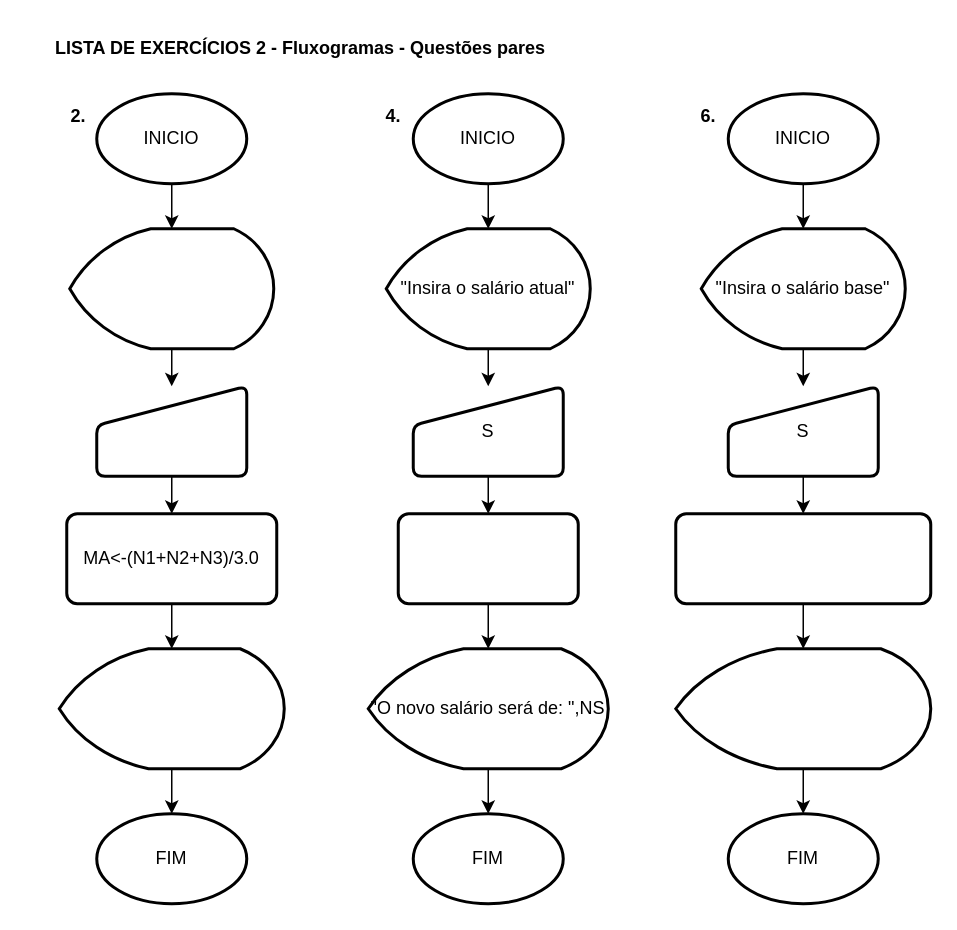
Some shapes in this 957 by 930 pixel diagram are drawn without their labels. The box of each missing label's shape, as (x1, y1, x2, y2) in pixels:
"A média será de: ",MA: (57, 646, 285, 770)
"Insira as notas": (68, 226, 274, 350)
"Salário a receber será: ",SR: (674, 646, 932, 770)
N1,N2,N3: (94, 384, 248, 477)
NS<-S*1.25: (396, 512, 579, 604)
SR<-S+(S*0.05)-(S*0.07): (674, 512, 932, 604)
